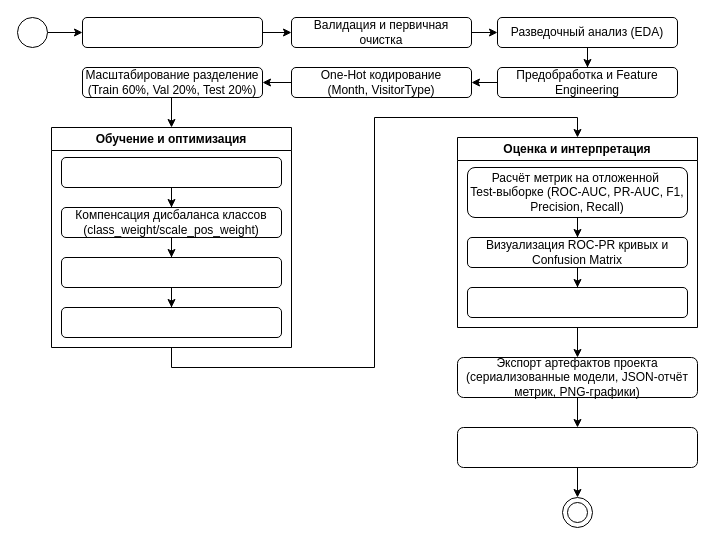
The diagram is 715 pixels wide and 545 high, and some of its shapes have lost their labels. Here are the shapes that lost their labels. From the top down, the centre of each, then its label:
At pixel 172 32: "Загрузка исходных данных (onilne_shoppers_intention.csv)".
At pixel 171 172: "Инициализация моделей (LogReg, RandomForest, XGBoost, MLP)".
At pixel 171 272: "Перебор гиперпараметров (RandomizedSearchCV, 5-fold CV)".
At pixel 171 322: "Обучение на Train, ранняя остановка на Val".
At pixel 577 302: "Глобальная и локальная интерпретация (SHAP TreeExplainer)".
At pixel 577 447: "Готовность к примению (Batch-скоринг / Интеграция в API)".
